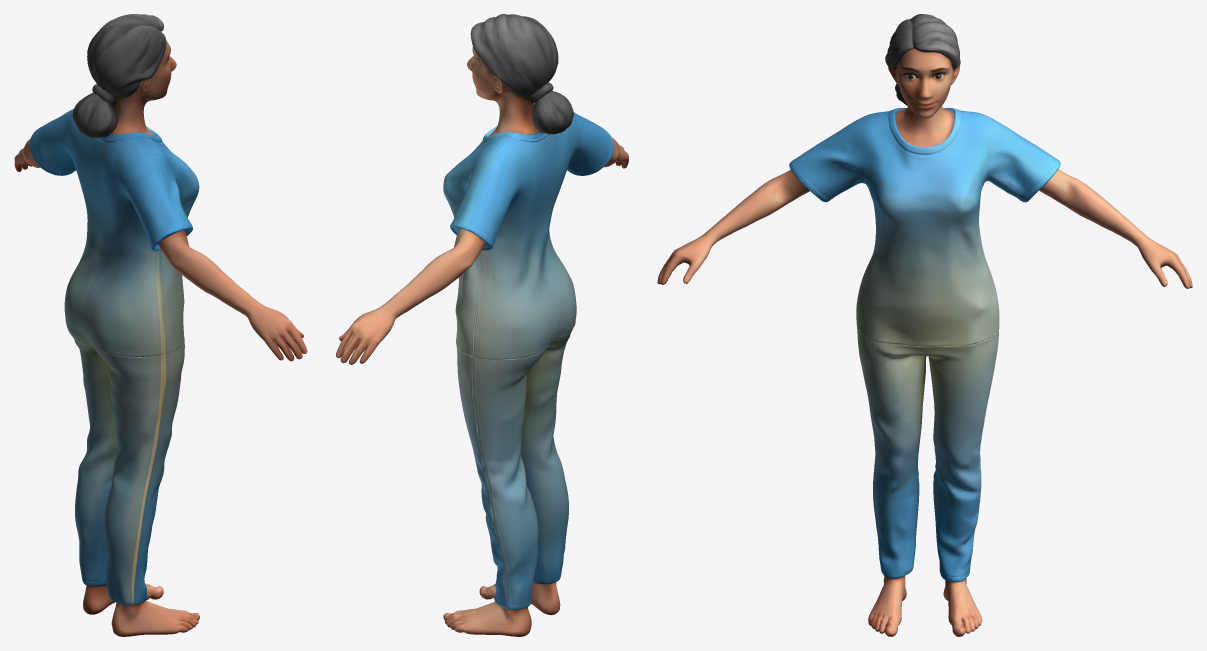
Rendered from patient-a-pose-1.glb.
The picture shows the model from 3 angles, left to right: view 1: azimuth 30°, elevation 25°; view 2: azimuth 150°, elevation 25°; view 3: azimuth 270°, elevation 25°; orthographic projection.
Parts seen in each view (by area): view 1: tripo_node_c56a7fcf-693d-4c6c-8b8a-da5a77a00450; view 2: tripo_node_c56a7fcf-693d-4c6c-8b8a-da5a77a00450; view 3: tripo_node_c56a7fcf-693d-4c6c-8b8a-da5a77a00450.
Boxes of the visible parts, x1,y1,x2,y2 form: tripo_node_c56a7fcf-693d-4c6c-8b8a-da5a77a00450: [14, 14, 307, 636]; tripo_node_c56a7fcf-693d-4c6c-8b8a-da5a77a00450: [336, 14, 628, 636]; tripo_node_c56a7fcf-693d-4c6c-8b8a-da5a77a00450: [657, 14, 1192, 636].
Size of the model in its own units: 0.1825 by 0.9793 by 0.7969.
1 material, 1 textured.
